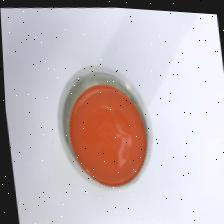plastic: (56, 64, 151, 190)
